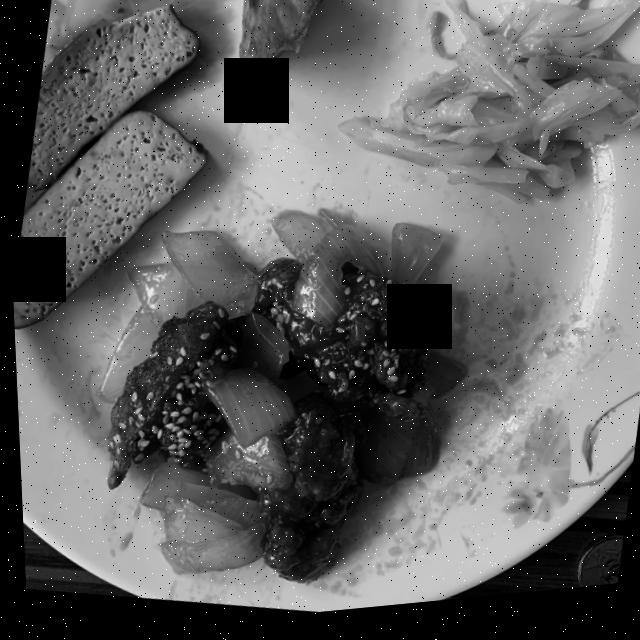cabbage: (340, 0, 640, 211)
coin: (571, 546, 618, 598)
firm tofu: (10, 7, 205, 328)
fried potato: (238, 0, 325, 78)
